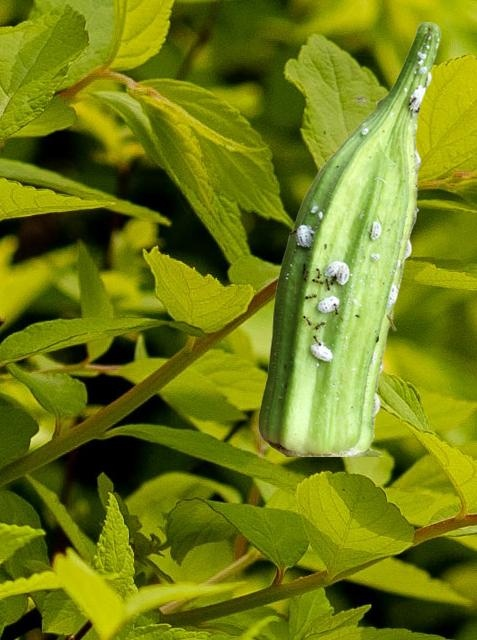okra: (258, 22, 440, 455)
